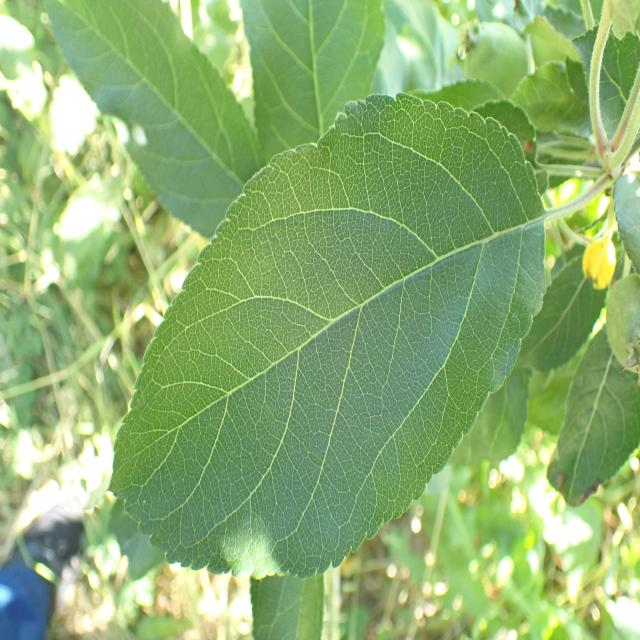healthy: (106, 91, 548, 579), (44, 1, 263, 241), (238, 1, 384, 163), (546, 318, 640, 507)
